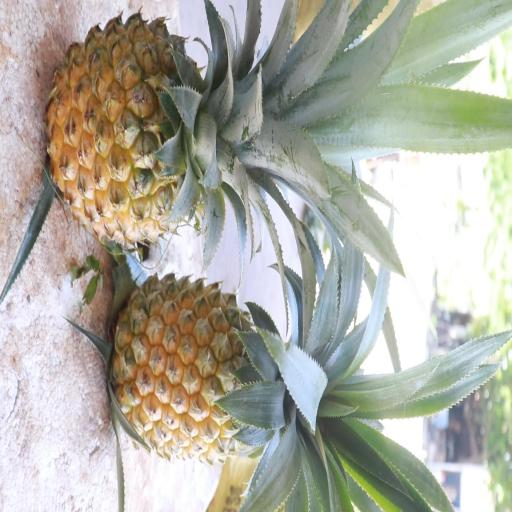Pineapple - v8 v1: (41, 8, 293, 254), (107, 266, 347, 473)
